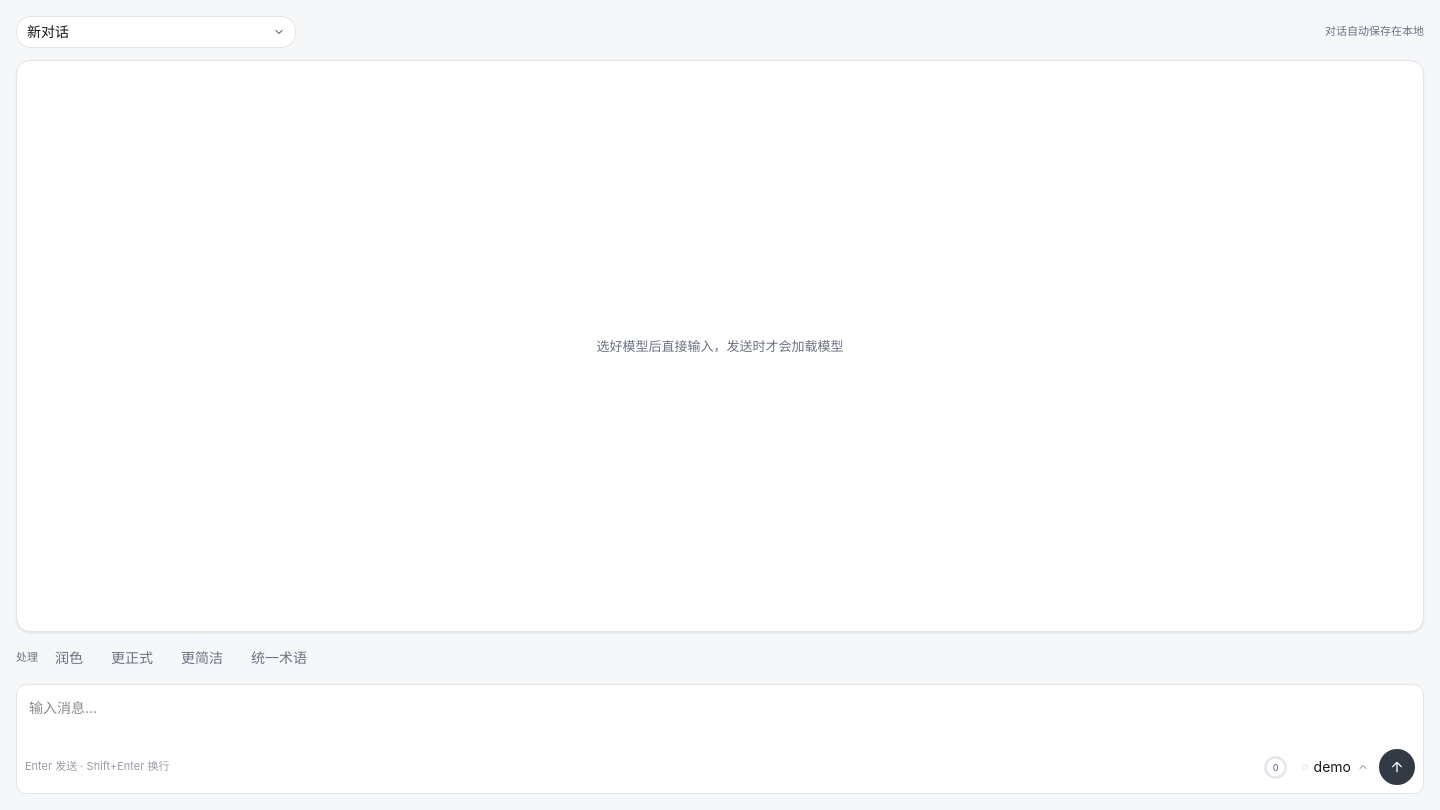
Test: Chat › 快捷指令会并进用户消息发给模型
Check: the button named "发送" is enabled, box [1379,749,1415,785]
先把文字打进输入框，再点指令，最后发送
Type "这段文字需要处理" into the text box with placeholder "输入消息…". click: (720, 719)
box: [25,693,1415,745]
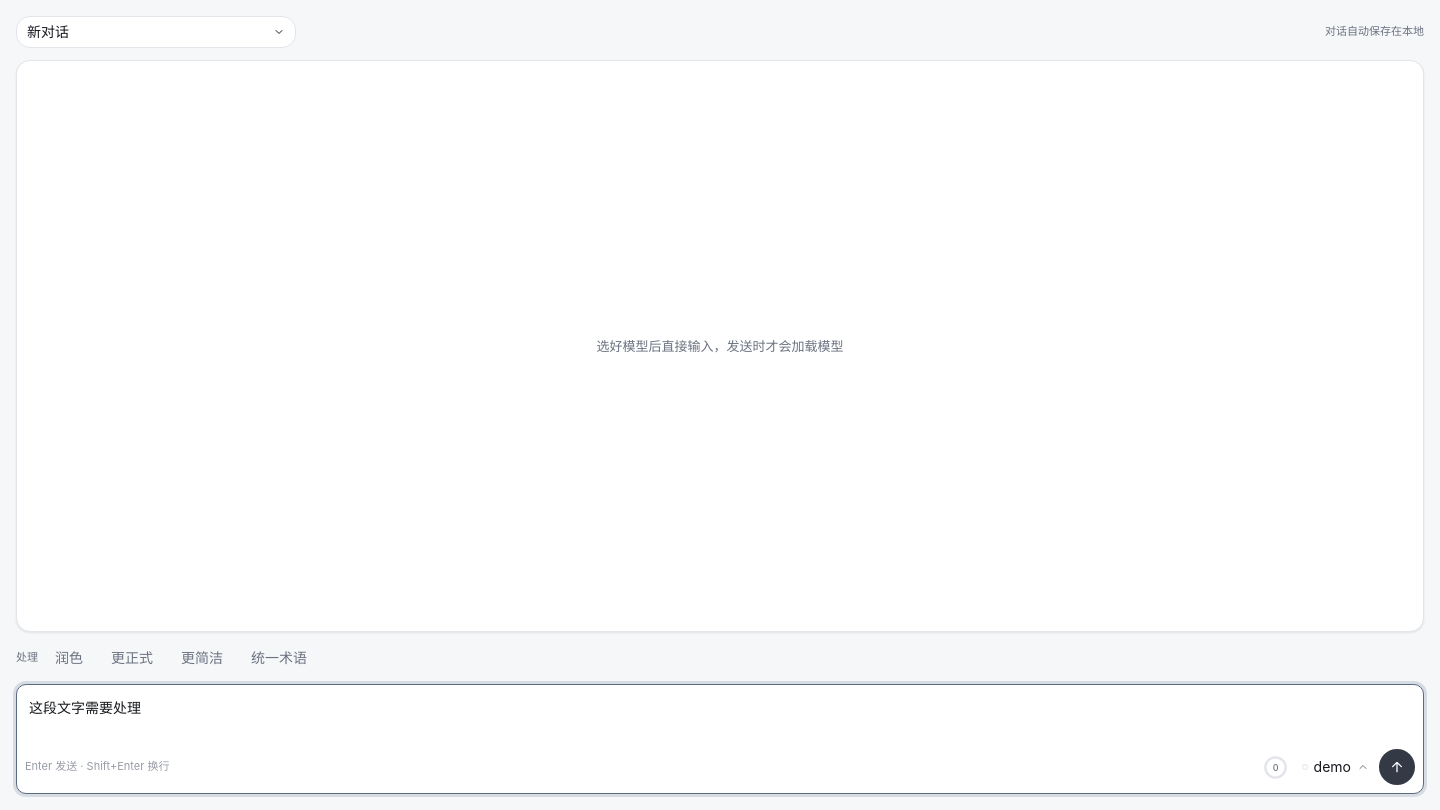
Click the button "润色". click: (69, 658)
box: [44,644,94,672]
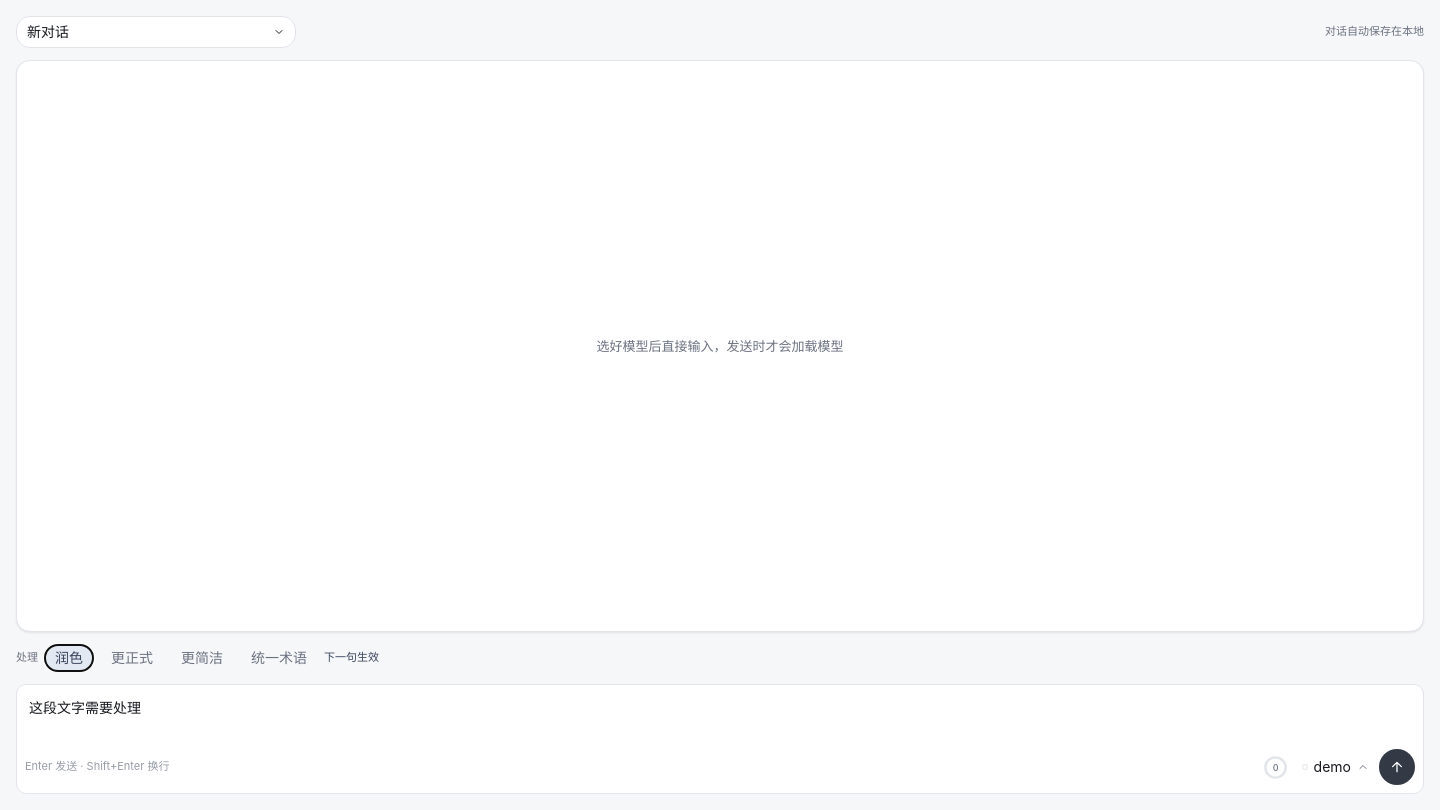
Check: the text "下一句生效" is shown, box [324,650,379,666]
Click the button named "发送". click: (1397, 767)
box: [1379,749,1415,785]
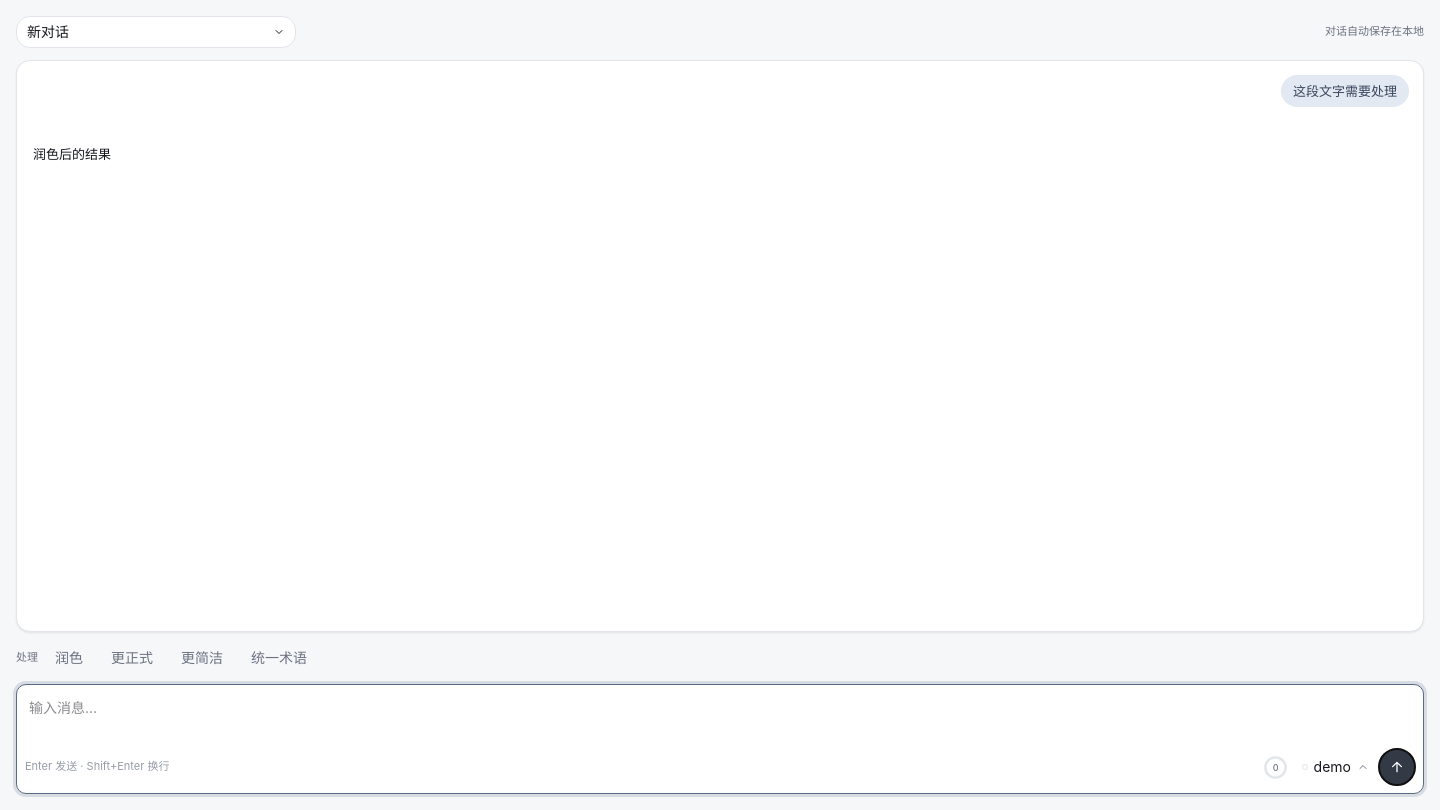
Check: the text "润色后的结果" is shown, box [31,144,113,165]
